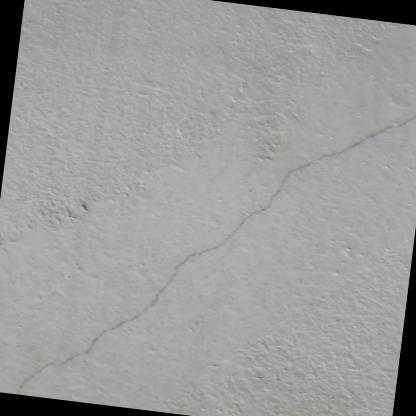crack: (12, 113, 416, 392)
